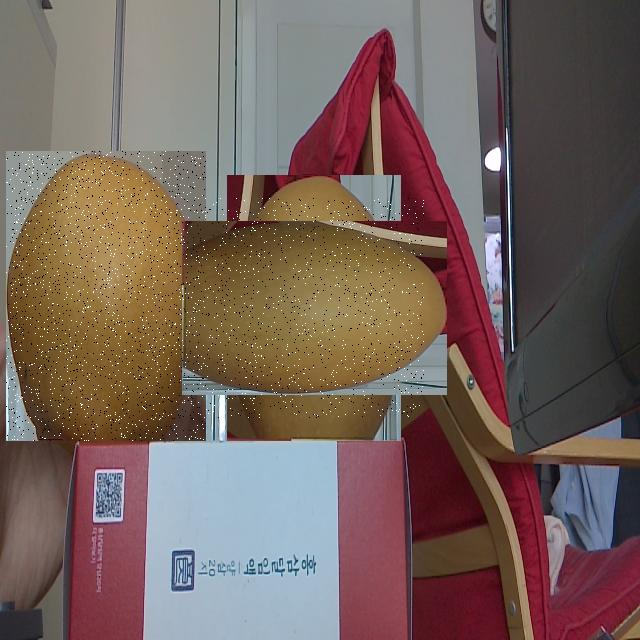pear: (6, 151, 206, 441), (204, 198, 424, 418)
